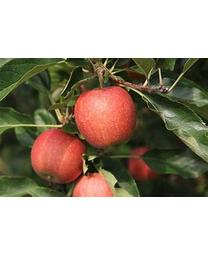apple: (73, 85, 135, 149), (31, 128, 87, 184), (74, 174, 114, 197)
